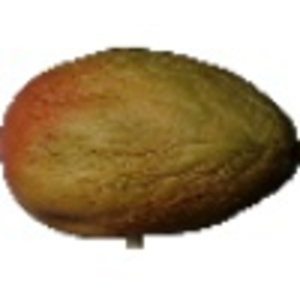mamão: (4, 32, 296, 237)
